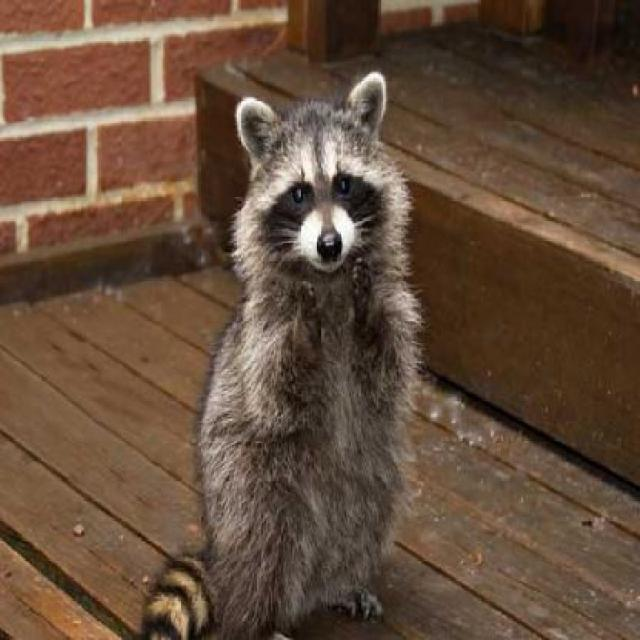raccon: (139, 74, 439, 640)
